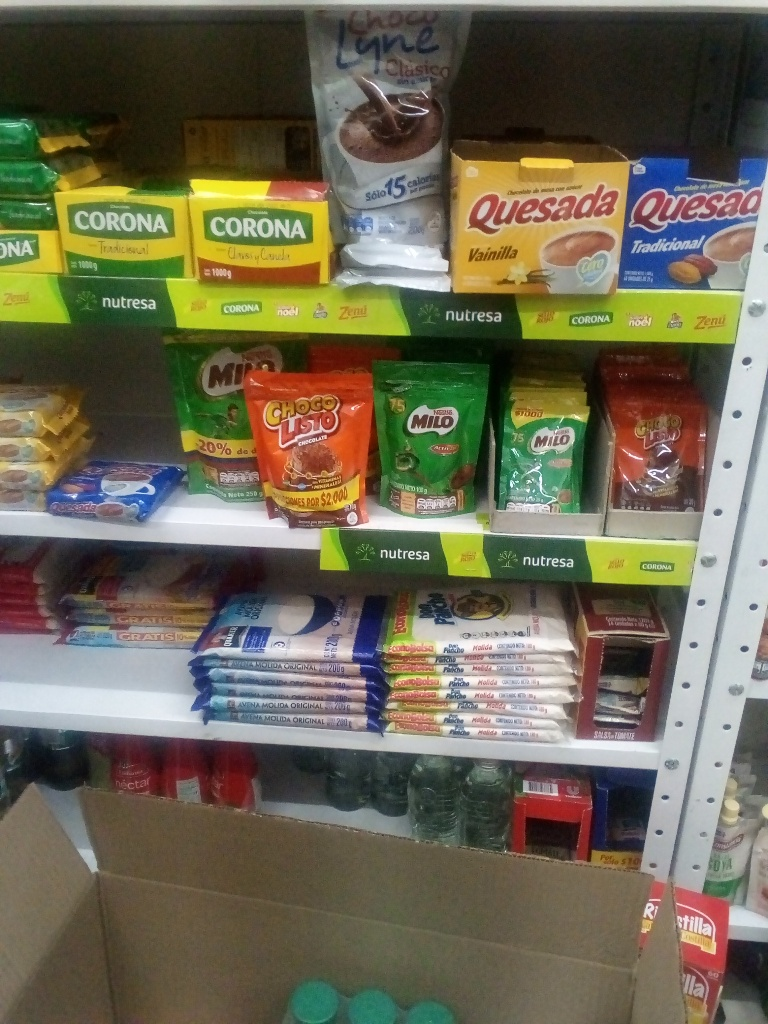COL0170103SOB02000: (601, 390, 705, 516)
COL0170203DYP10000: (369, 362, 500, 525)
